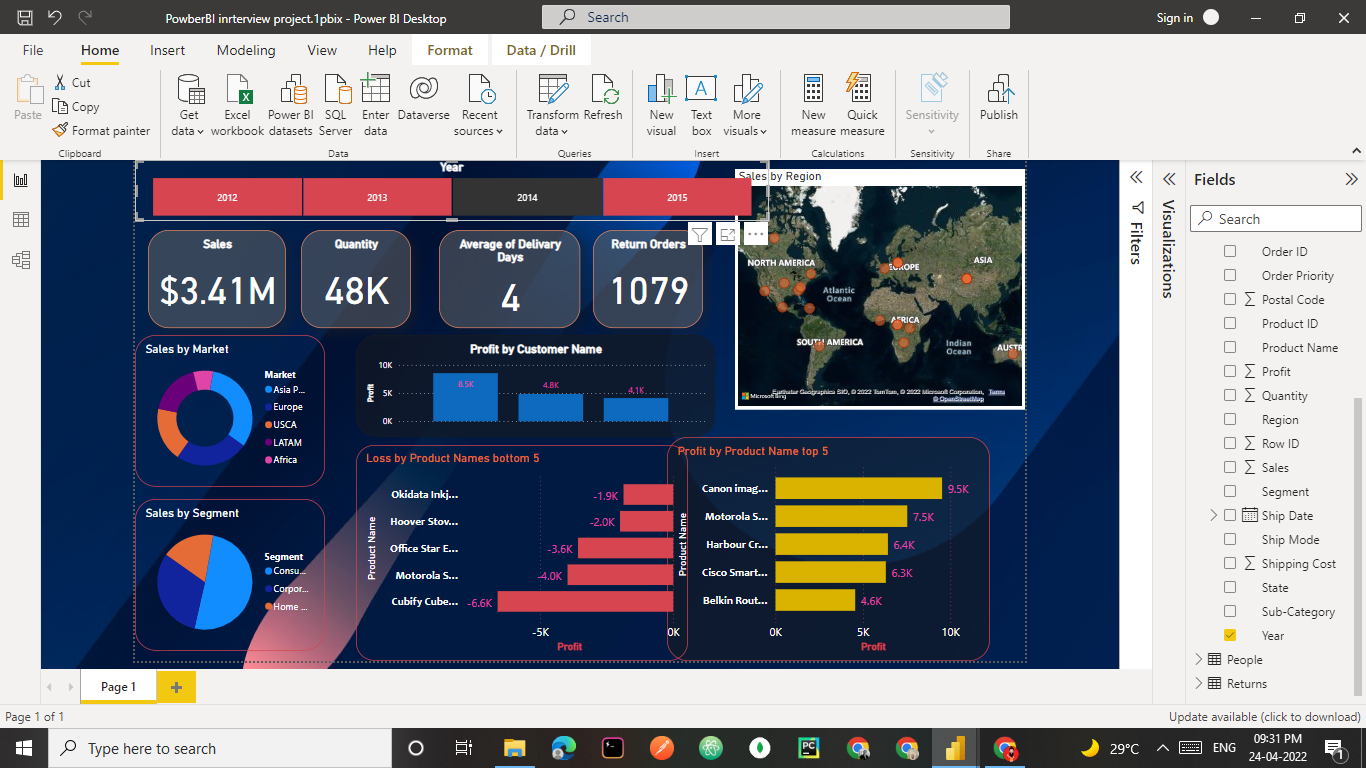

The page's visual inventory and layout, read from the dashboard file:
{"tool":"powerbi","page":{"name":"Page 1","canvas":[1280,720],"ordinal":0},"visuals":[{"type":"card","title":"Sales","fields":{"Values":["Sum(Orders.Sales)"]},"box":[18.5,100.8,198.2,141.1],"z":0},{"type":"card","title":"Quantity","fields":{"Values":["Sum(Orders.Quantity)"]},"box":[238.5,100.8,157.9,141.1],"z":1000},{"type":"card","title":"Average of Delivary Days","fields":{"Values":["Avg(Orders.Delivary Days)"]},"box":[436.7,100.8,203.3,141.1],"z":2000},{"type":"slicer","title":"Year","fields":{"Values":["Orders.Year"]},"box":[0,0,862.3,87.7],"z":3000},{"type":"card","title":"Return Orders","fields":{"Values":["Sum(Returns.Return Orders)"]},"box":[658.5,100.8,157.9,141.1],"z":4000},{"type":"map","fields":{"Size":["Sum(Orders.Sales)"],"Category":["Returns.Region"]},"box":[861.7,13.4,418.3,346],"z":5000},{"type":"clusteredBarChart","title":"Profit by Product Name top 5","fields":{"Category":["Orders.Product Name"],"Y":["Sum(Orders.Profit)"]},"box":[764.6,398.1,464.2,321.9],"z":6000},{"type":"clusteredBarChart","title":"Loss by Product Names bottom 5","fields":{"Category":["Orders.Product Name"],"Y":["Sum(Orders.Profit)"]},"box":[317.6,409.6,477.1,310.4],"z":7000},{"type":"pieChart","fields":{"Category":["Orders.Segment"],"Y":["Sum(Orders.Sales)"]},"box":[0,487.2,273.1,218.4],"z":8000},{"type":"donutChart","fields":{"Category":["Orders.Market"],"Y":["Sum(Orders.Sales)"]},"box":[0,251.5,273.1,218.4],"z":9000},{"type":"columnChart","fields":{"Category":["Orders.Customer Name"],"Y":["Sum(Orders.Profit)"]},"box":[317.5,252,515.7,146.1],"z":10000}]}

Visuals, with their boxes on the page's 1280x720 design canvas (x1, y1, x2, y2). These are canvas units, not pixel positions in the 1366x768 screenshot, which may show the page scaled, cropped or inside an application window:
"Sales" card: [x1=18, y1=101, x2=217, y2=242]
"Quantity" card: [x1=238, y1=101, x2=396, y2=242]
"Average of Delivary Days" card: [x1=437, y1=101, x2=640, y2=242]
"Year" slicer: [x1=0, y1=0, x2=862, y2=88]
"Return Orders" card: [x1=658, y1=101, x2=816, y2=242]
map - Sum(Orders.Sales) x Returns.Region: [x1=862, y1=13, x2=1280, y2=359]
"Profit by Product Name top 5" clusteredBarChart: [x1=765, y1=398, x2=1229, y2=720]
"Loss by Product Names bottom 5" clusteredBarChart: [x1=318, y1=410, x2=795, y2=720]
pieChart - Orders.Segment x Sum(Orders.Sales): [x1=0, y1=487, x2=273, y2=706]
donutChart - Orders.Market x Sum(Orders.Sales): [x1=0, y1=252, x2=273, y2=470]
columnChart - Orders.Customer Name x Sum(Orders.Profit): [x1=318, y1=252, x2=833, y2=398]
